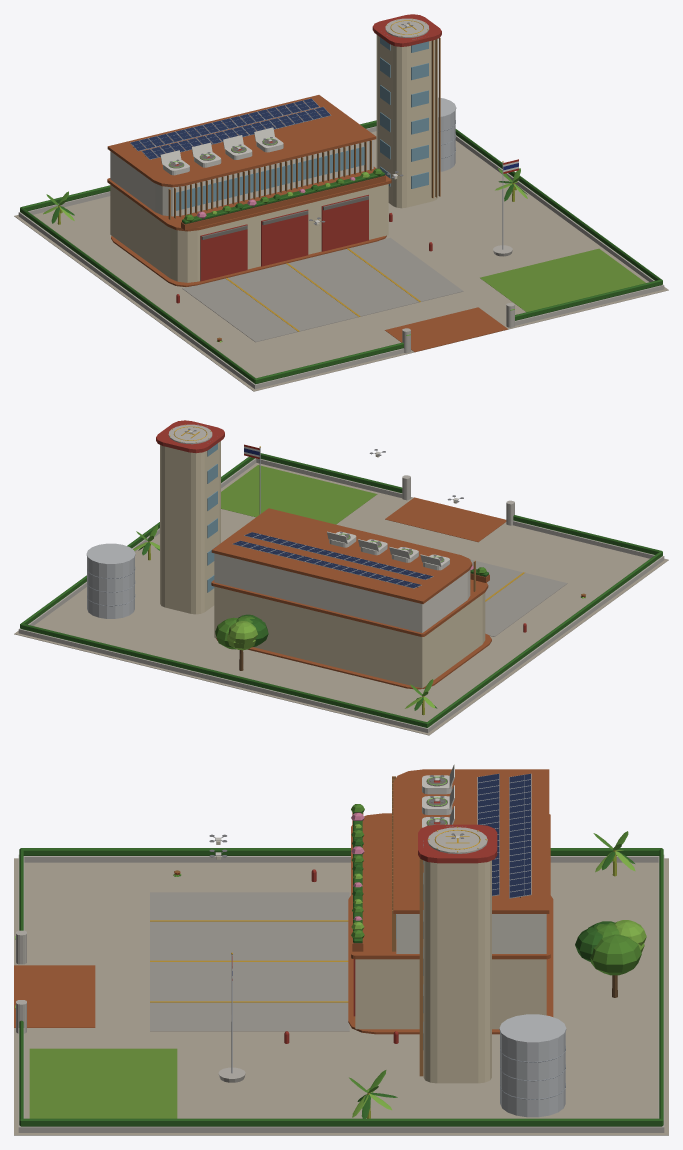
The model's file is fire.glb.
3 views of the same model, one above another, from view 1: azimuth 30°, elevation 25°; view 2: azimuth 150°, elevation 25°; view 3: azimuth 270°, elevation 25° (orthographic). The views are drawn at different scales.
Parts seen in each view (by area): view 1: body; view 2: body; view 3: body.
Part boxes in pixels (<box>): body: <box>14,14,668,391</box>; body: <box>14,420,668,735</box>; body: <box>14,764,668,1135</box>.
Size of the model in its own units: 47.9 by 19.14 by 47.9.
